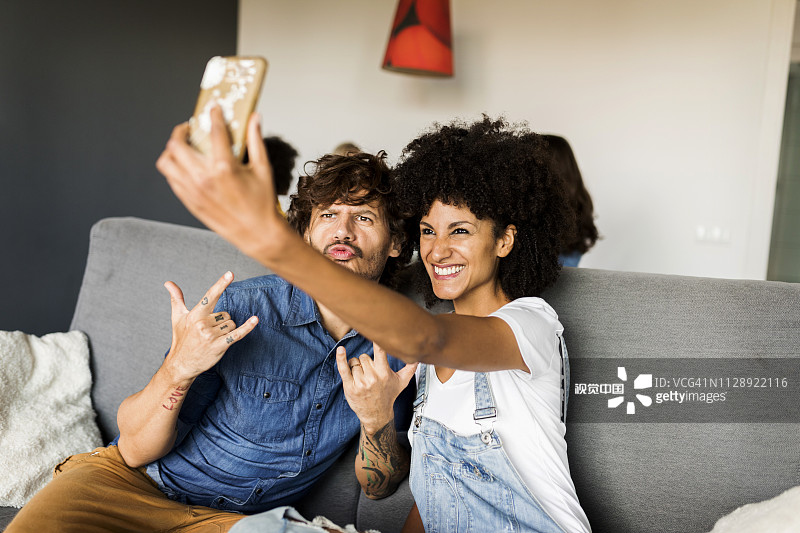no-phone: (145, 261, 263, 383), (316, 320, 427, 444)
taking photos: (143, 54, 293, 266)
